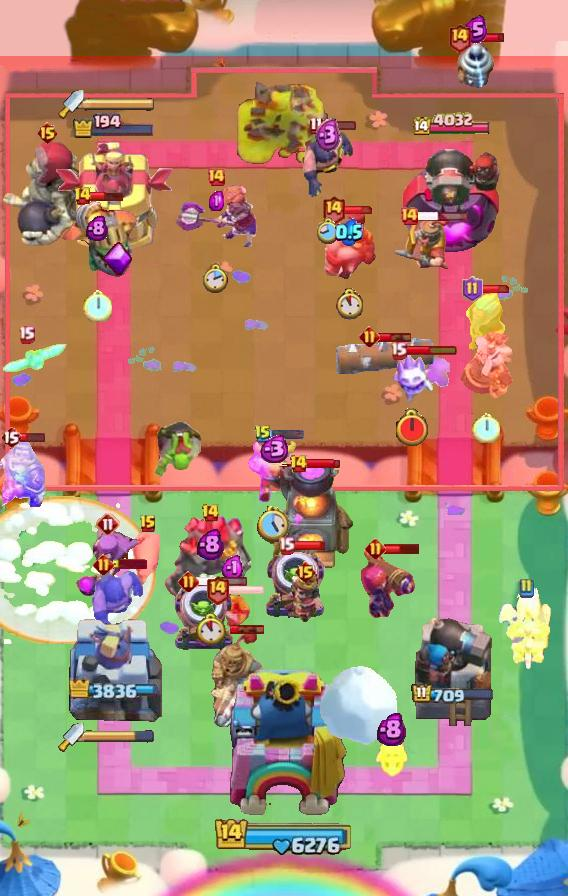bar: (405, 344, 458, 356), (196, 576, 248, 587), (417, 211, 469, 222), (384, 542, 421, 555), (228, 584, 265, 596), (305, 458, 341, 470), (377, 331, 413, 343), (11, 431, 46, 443), (469, 32, 506, 43), (269, 429, 305, 440), (89, 191, 125, 202), (321, 120, 357, 131), (230, 624, 265, 635), (292, 540, 326, 551), (111, 559, 147, 569), (480, 284, 512, 294), (343, 205, 375, 215)
bar-level: (205, 574, 230, 605), (321, 194, 346, 225), (447, 22, 472, 53), (96, 512, 120, 536), (294, 560, 317, 584), (36, 121, 59, 145), (462, 276, 483, 302), (0, 425, 22, 449), (178, 571, 199, 592), (93, 554, 114, 575), (365, 538, 386, 559), (359, 326, 380, 347), (399, 206, 419, 226), (206, 167, 226, 187), (201, 503, 220, 523), (289, 454, 308, 474), (73, 186, 92, 206), (139, 514, 157, 534), (254, 424, 272, 444), (278, 536, 295, 555), (390, 341, 407, 360), (18, 325, 35, 344), (518, 578, 534, 598), (309, 116, 324, 135)
bat-evolution: (0, 342, 68, 374)
cannoneer-tower: (401, 138, 505, 256), (410, 611, 496, 731)
clock: (394, 408, 430, 448), (257, 506, 289, 542), (334, 288, 365, 320), (83, 289, 112, 322), (196, 613, 225, 645), (472, 412, 500, 443), (203, 263, 229, 294), (317, 217, 340, 245)
dagger-duchess-tower: (55, 142, 174, 256), (66, 611, 162, 731)
dagger-duchess-tower-bar: (84, 97, 156, 111), (84, 730, 154, 744)
elite-barbarian: (248, 437, 299, 503)
elixir: (377, 712, 406, 746), (256, 435, 290, 463), (315, 118, 341, 153), (197, 528, 224, 560), (335, 218, 363, 246), (463, 15, 488, 44), (221, 555, 245, 581), (86, 215, 108, 241), (209, 191, 224, 211)
evolution-symbol: (102, 242, 132, 278)
executioner: (91, 569, 145, 639), (301, 129, 355, 199)
firecracker-evolution: (360, 546, 418, 620)
goblin: (215, 591, 251, 631)
goblin-ball: (154, 418, 204, 478)
heal-spirit: (373, 725, 409, 779)
hog: (131, 531, 165, 589)
ice-spirit-evolution: (390, 350, 434, 404)
ice-wizard: (463, 290, 507, 356)
king-tower: (219, 670, 349, 826)
king-tower-bar: (214, 816, 354, 856)
knight-evolution: (0, 439, 47, 507)
little-prince: (288, 574, 322, 624)
mortar-evolution: (172, 583, 236, 653), (263, 550, 327, 620)
mother-witch: (74, 525, 142, 599)
ram-rider: (319, 206, 379, 280)
royal-recruit: (394, 212, 454, 274)
the-log: (333, 338, 435, 374)
tower-bar: (72, 113, 156, 139), (413, 112, 493, 138), (411, 683, 495, 706), (68, 680, 160, 700)
valkyrie-evolution: (174, 183, 258, 250)
zappy: (452, 35, 498, 89)
